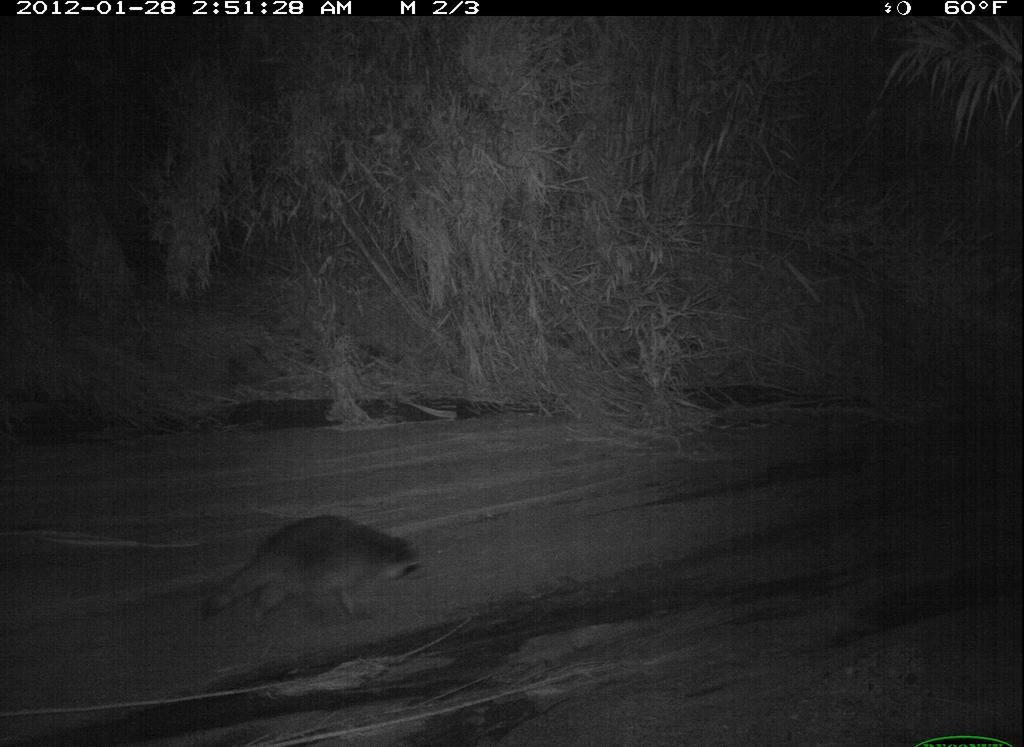raccoon: (204, 513, 433, 649)
